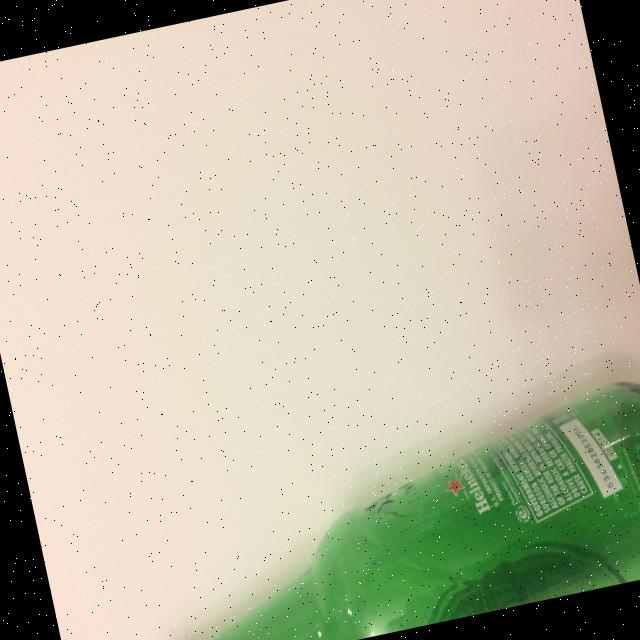glass: (87, 371, 640, 640)
